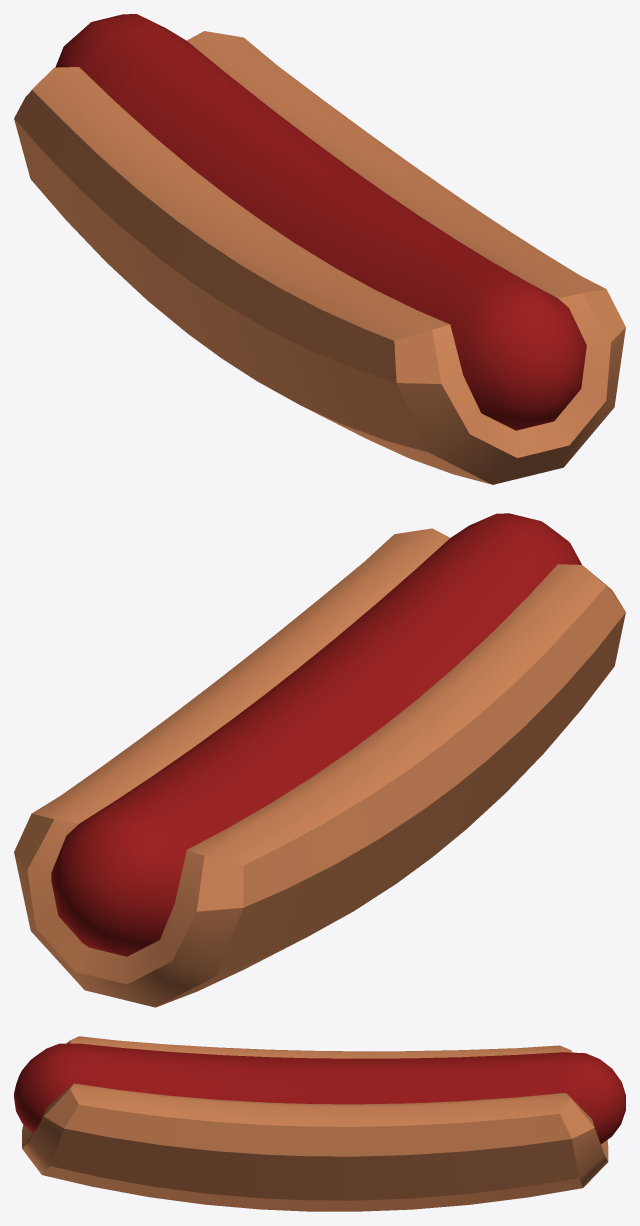
The model's file is Hot_dog.FBX.
The picture shows the model from 3 angles, top to bottom: view 1: azimuth 30°, elevation 25°; view 2: azimuth 150°, elevation 25°; view 3: azimuth 270°, elevation 25°; orthographic projection. The views are drawn at different scales.
Visible parts, largest first — view 1: Capsule001; view 2: Capsule001; view 3: Capsule001.
Boxes of the visible parts, x1,y1,x2,y2 form: Capsule001: (14, 14, 625, 484); Capsule001: (14, 513, 625, 1007); Capsule001: (14, 1036, 625, 1211).
Bounding box in the file's own units: 89.77 × 74.46 × 277.
